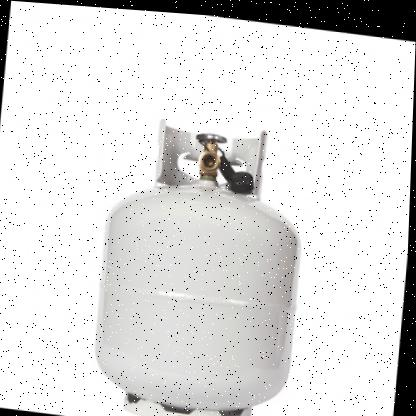gas-tank: (69, 81, 323, 415)
